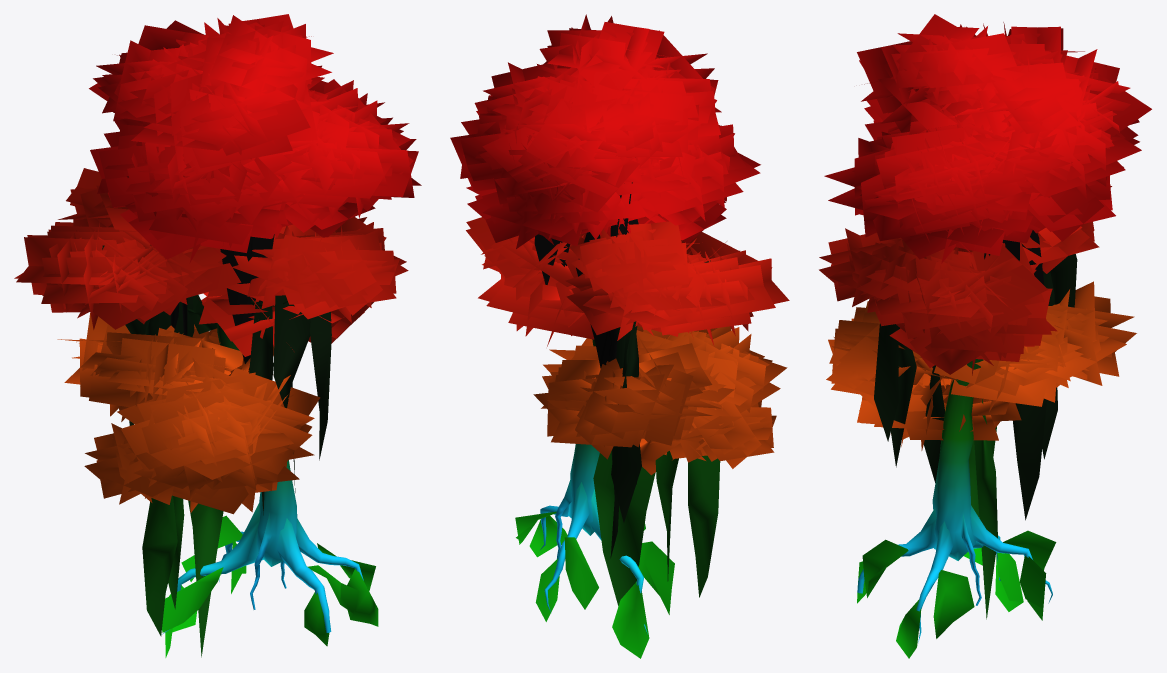
Rendered from Kapokier1.fbx.
3 views of the same model, side by side, from view 1: azimuth 30°, elevation 25°; view 2: azimuth 150°, elevation 25°; view 3: azimuth 270°, elevation 25° (orthographic). The views are drawn at different scales.
Parts seen in each view (by area): view 1: Kapokier1_LOD0; view 2: Kapokier1_LOD0; view 3: Kapokier1_LOD0.
Part boxes in pixels (x1,y1,x2,y2): Kapokier1_LOD0: [14, 14, 421, 657]; Kapokier1_LOD0: [450, 14, 789, 658]; Kapokier1_LOD0: [819, 14, 1151, 658].
Size of what is drawn, in the model's own units: 1087 by 1870 by 925.
